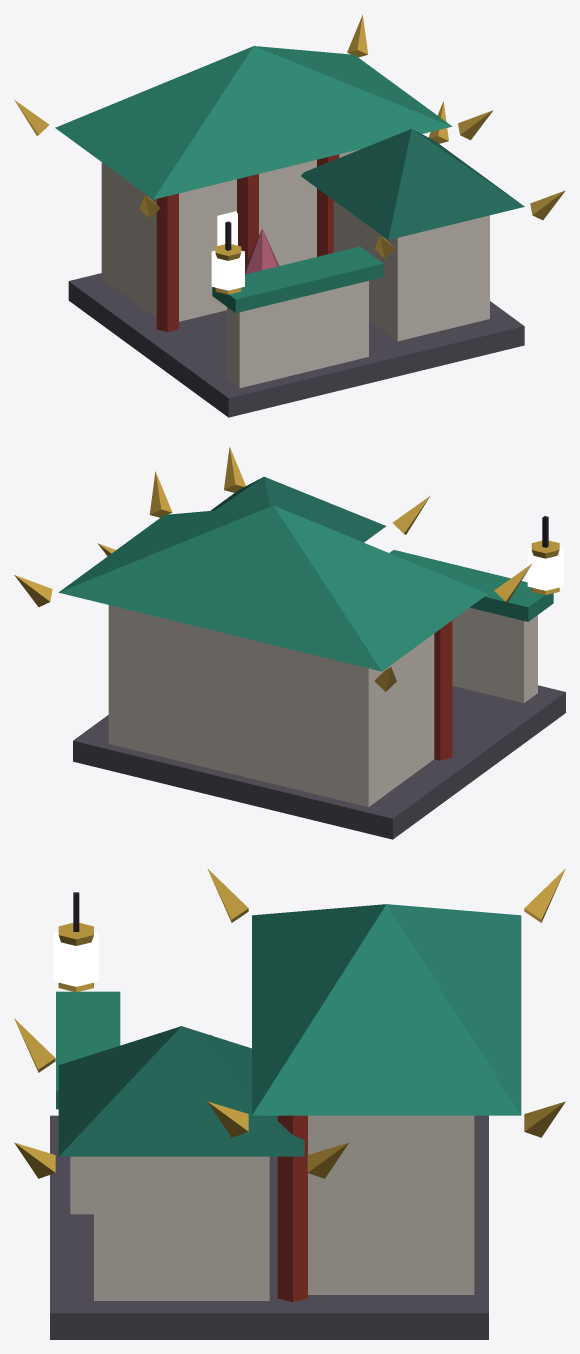
Rendered from house_t3.glb.
3 views of the same model, one above another, from view 1: azimuth 30°, elevation 25°; view 2: azimuth 150°, elevation 25°; view 3: azimuth 270°, elevation 25° (orthographic). The views are drawn at different scales.
Parts seen in each view (by area): view 1: body, glow; view 2: body, glow; view 3: body, glow.
Part boxes in pixels (box(x1,y1,x2,y2)): body: box(14, 14, 565, 417); glow: box(211, 211, 244, 290); body: box(14, 447, 565, 839); glow: box(527, 547, 563, 590); body: box(14, 868, 565, 1339); glow: box(53, 932, 98, 986).
Size of the model in its own units: 1.9 by 1.27 by 1.89.
